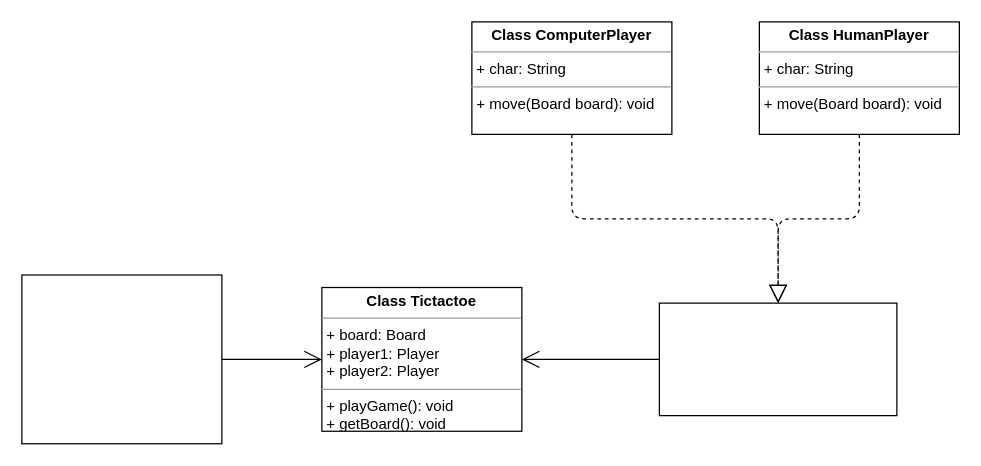
The diagram is 981 pixels wide and 466 high, and some of its shapes have lost their labels. The shapes that lost their labels are listed below. From the top down, each one's box as (x1, y1, x2, y2) in pixels, then its label:
(21, 274, 222, 444): Class Board + rows: int + colums: int + getRows(): int + getColiuns(): int
(658, 302, 897, 416): <<Interface>> Player + char: String + move(Board board): void
